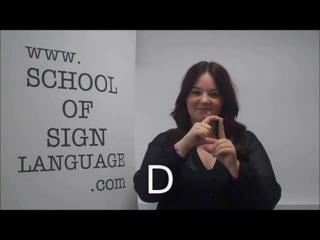D: (179, 112, 241, 168)
